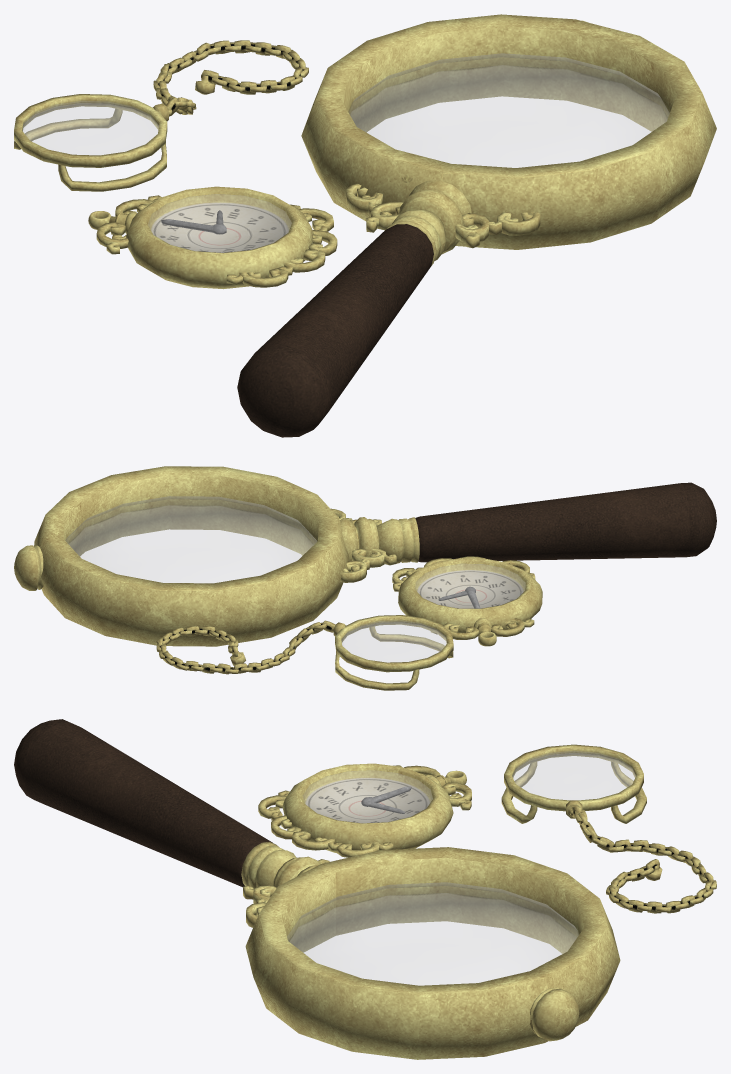
Rendered from unseen_small_props.glb.
3 views of the same model, one above another, from view 1: azimuth 30°, elevation 25°; view 2: azimuth 150°, elevation 25°; view 3: azimuth 270°, elevation 25° (orthographic). The views are drawn at different scales.
Parts seen in each view (by area): view 1: 2ndFlr_FineProps_MagnifiyngGlass, 2ndFlr_FineProps_MagnifiyngGlass_Lens_2ndFlr_FineProps_Lens_, 2ndFlr_FineProps_Watch, 2ndFlr_FineProps_Monocle, 2ndFlr_FineProps_Watch_Glass, 2ndFlr_FineProps_Monocle_Lens; view 2: 2ndFlr_FineProps_MagnifiyngGlass, 2ndFlr_FineProps_MagnifiyngGlass_Lens_2ndFlr_FineProps_Lens_, 2ndFlr_FineProps_Watch, 2ndFlr_FineProps_Monocle, 2ndFlr_FineProps_Watch_Glass, 2ndFlr_FineProps_Monocle_Lens; view 3: 2ndFlr_FineProps_MagnifiyngGlass, 2ndFlr_FineProps_MagnifiyngGlass_Lens_2ndFlr_FineProps_Lens_, 2ndFlr_FineProps_Watch, 2ndFlr_FineProps_Monocle, 2ndFlr_FineProps_Watch_Glass, 2ndFlr_FineProps_Monocle_Lens.
Boxes of the visible parts, x1,y1,x2,y2 form: 2ndFlr_FineProps_MagnifiyngGlass: (237, 14, 716, 437); 2ndFlr_FineProps_MagnifiyngGlass_Lens_2ndFlr_FineProps_Lens_: (349, 53, 669, 167); 2ndFlr_FineProps_Watch: (88, 186, 337, 289); 2ndFlr_FineProps_Monocle: (14, 40, 308, 191); 2ndFlr_FineProps_Watch_Glass: (148, 194, 291, 252); 2ndFlr_FineProps_Monocle_Lens: (22, 101, 158, 154); 2ndFlr_FineProps_MagnifiyngGlass: (14, 466, 716, 646); 2ndFlr_FineProps_MagnifiyngGlass_Lens_2ndFlr_FineProps_Lens_: (65, 496, 316, 582); 2ndFlr_FineProps_Watch: (392, 556, 542, 646); 2ndFlr_FineProps_Monocle: (156, 615, 453, 690); 2ndFlr_FineProps_Watch_Glass: (415, 564, 525, 608); 2ndFlr_FineProps_Monocle_Lens: (341, 620, 446, 662); 2ndFlr_FineProps_MagnifiyngGlass: (14, 719, 620, 1059); 2ndFlr_FineProps_MagnifiyngGlass_Lens_2ndFlr_FineProps_Lens_: (287, 882, 578, 985); 2ndFlr_FineProps_Watch: (258, 763, 471, 857); 2ndFlr_FineProps_Monocle: (501, 744, 716, 913); 2ndFlr_FineProps_Watch_Glass: (303, 770, 432, 822); 2ndFlr_FineProps_Monocle_Lens: (512, 751, 635, 799).
Size of the model in its own units: 19.42 by 2.49 by 20.09.
Materials: 2 (2 with a texture image).
